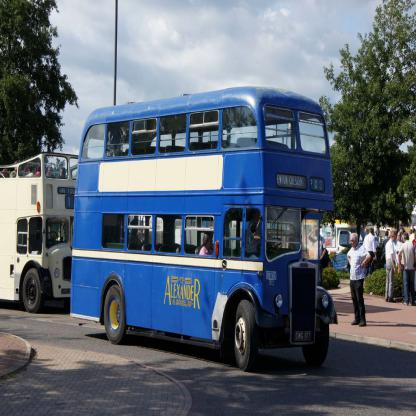Bus: (70, 80, 340, 366), (0, 151, 79, 315)
